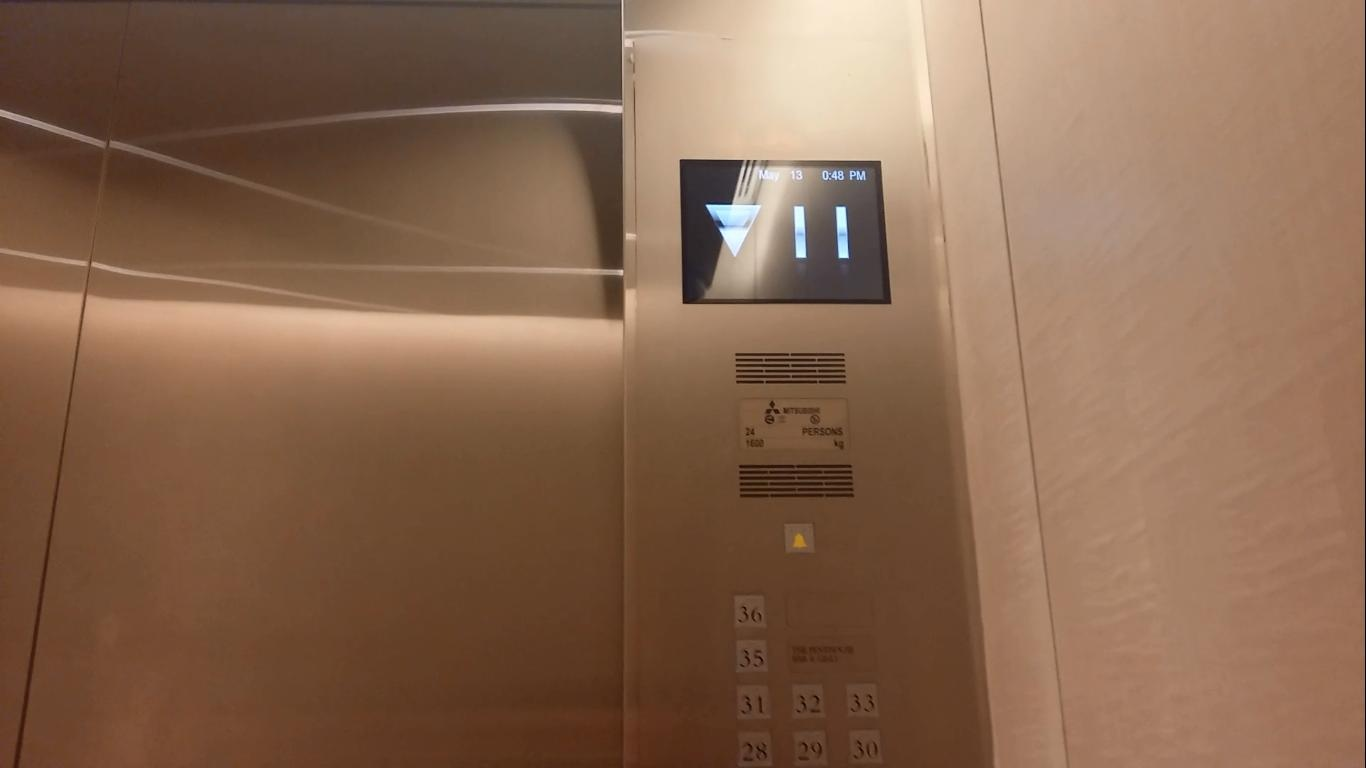28: (734, 730, 772, 768)
29: (789, 728, 829, 766)
30: (846, 725, 884, 768)
31: (734, 682, 773, 722)
32: (789, 682, 829, 723)
33: (842, 680, 882, 720)
35: (733, 637, 772, 675)
36: (730, 591, 771, 632)
alarm: (780, 518, 819, 559)
led: (675, 154, 896, 308)
